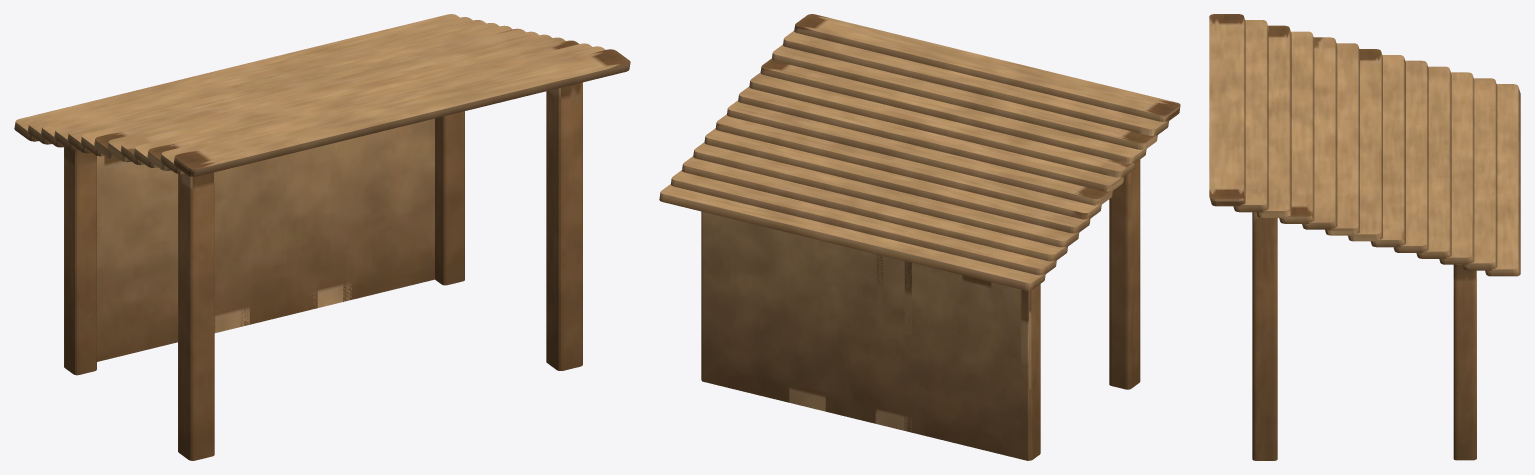
The model's file is woodshed.glb.
The picture shows the model from 3 angles, left to right: view 1: azimuth 30°, elevation 25°; view 2: azimuth 150°, elevation 25°; view 3: azimuth 270°, elevation 25°; orthographic projection. The views are drawn at different scales.
Parts seen in each view (by area): view 1: Roof, Post, Post.002, Board.001, Post.001, Board.008, Board.005, Board.006, Board.002, Board.009, Board.004, Board.007 (+15 smaller); view 2: Roof, Roof.012, Post, Board, Roof.009, Roof.005, Roof.004, Roof.006, Roof.002, Roof.003, Roof.007, Roof.010 (+14 smaller); view 3: Roof, Post.002, Roof.012, Roof.001, Roof.009, Roof.011, Roof.010, Roof.003, Roof.004, Roof.002, Roof.007, Roof.006 (+4 smaller).
Boxes of the visible parts, x1,y1,x2,y2 form: Roof: (174,49,630,176); Post: (178,172,214,460); Post.002: (546,82,582,370); Board.001: (104,155,146,359); Post.001: (64,147,96,375); Board.008: (343,130,385,301); Board.005: (240,155,283,326); Board.006: (275,147,317,318); Board.002: (138,165,177,351); Board.009: (377,122,420,292); Board.004: (214,164,249,332); Board.007: (310,140,351,308); Roof: (794,14,1180,121); Roof.012: (659,184,1045,290); Post: (1109,159,1140,389); Board: (991,282,1029,460); Roof.009: (693,142,1079,247); Roof.005: (738,86,1123,191); Roof.004: (749,72,1135,177); Roof.006: (727,100,1112,205); Roof.002: (772,44,1157,149); Roof.003: (760,58,1146,163); Roof.007: (715,114,1101,219); Roof.010: (682,156,1067,261); Roof: (1209,14,1245,206); Post.002: (1252,212,1277,460); Roof.012: (1485,84,1520,276); Roof.001: (1233,20,1268,212); Roof.009: (1416,66,1451,258); Roof.011: (1462,78,1497,270); Roof.010: (1439,72,1474,264); Roof.003: (1279,31,1314,223); Roof.004: (1302,37,1337,229); Roof.002: (1256,25,1291,217); Roof.007: (1370,55,1405,247); Roof.006: (1348,49,1382,241).
Size of the model in its own units: 3.29 by 2.25 by 2.34.
Materials: 1 (1 with a texture image).
